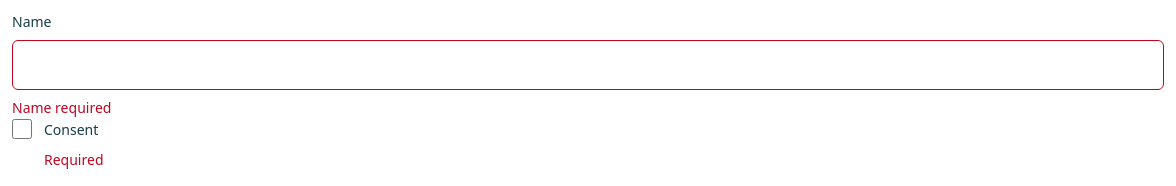
Test: shared form controls › keeps name-derived input IDs and associates checkbox errors
Click the text "Consent".
click(71, 130)  # box top-left (44, 120), bottom-right (98, 139)
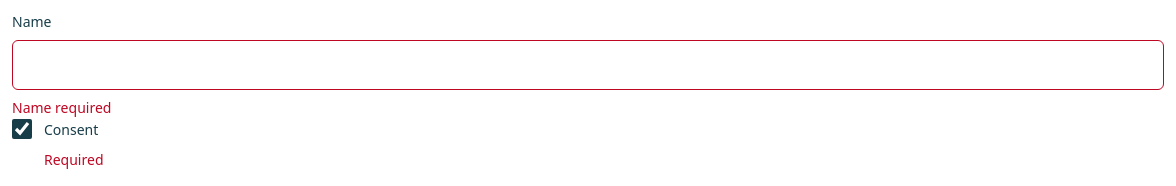
Check: the checkbox is checked, box top-left (12, 119), bottom-right (32, 139)
